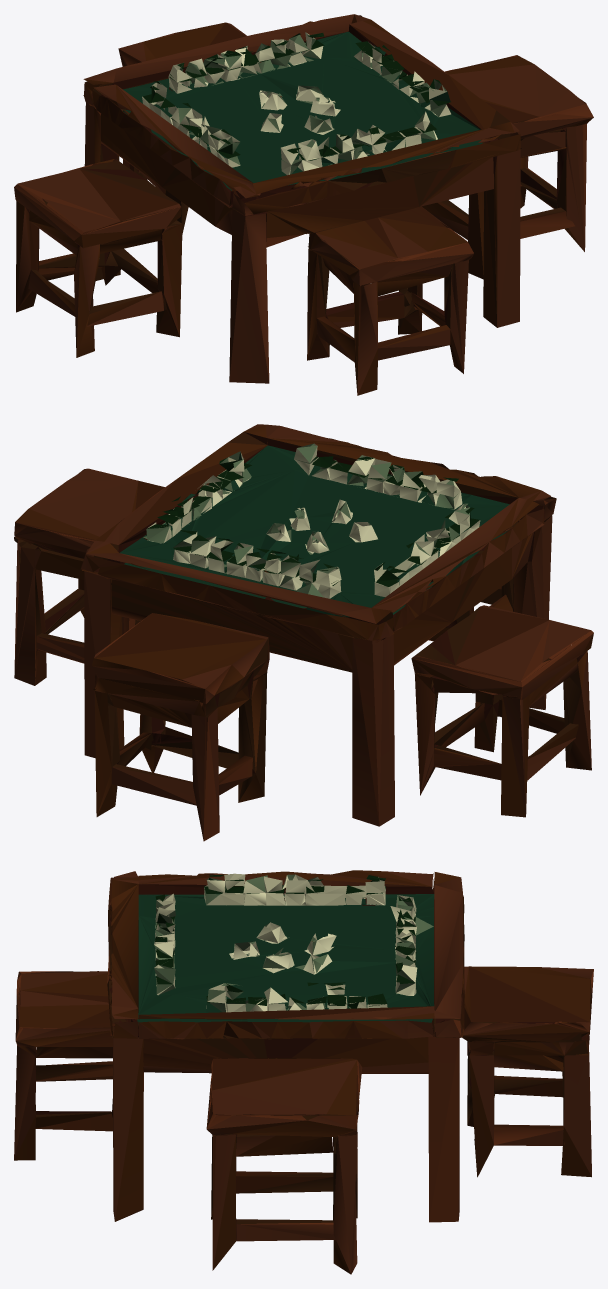
File: mahjong.glb
The picture shows the model from 3 angles, top to bottom: view 1: azimuth 30°, elevation 25°; view 2: azimuth 150°, elevation 25°; view 3: azimuth 270°, elevation 25°; orthographic projection. The views are drawn at different scales.
Parts seen in each view (by area): view 1: mahjong; view 2: mahjong; view 3: mahjong.
Boxes of the visible parts, x1=… form: mahjong: x1=14, y1=14, x2=593, y2=395; mahjong: x1=14, y1=424, x2=593, y2=841; mahjong: x1=14, y1=870, x2=593, y2=1274.
Bounding box in the file's own units: 1.91 × 0.7681 × 1.82.
